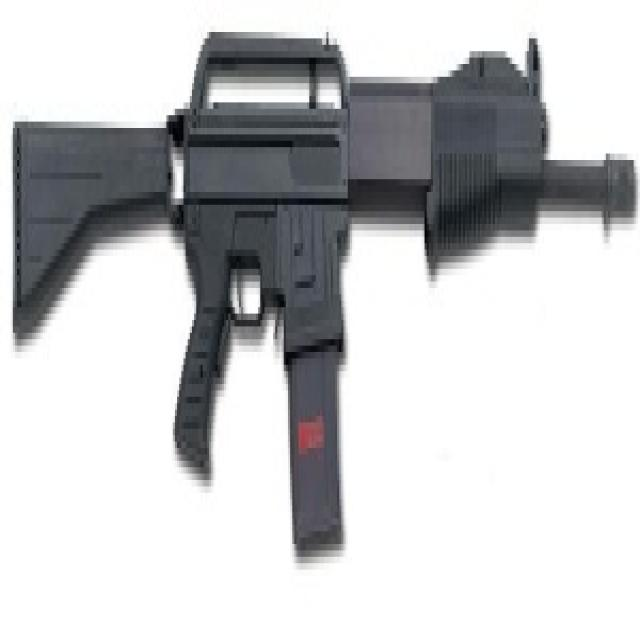rifle: (1, 1, 640, 565)
